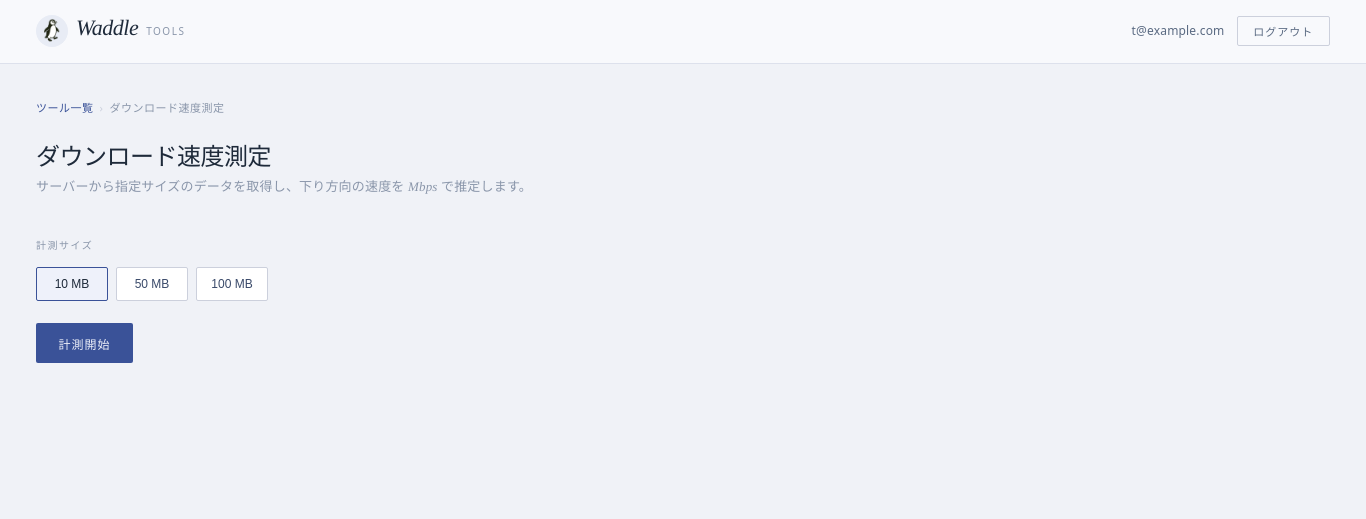
Test: DownloadSpeedPage › 30 秒でタイムアウトメッセージを表示する
The image size is (1366, 519).
Click the button "計測開始".
click(84, 343)  # box x1=36 y1=323 x2=133 y2=363
Wait 30000 ms
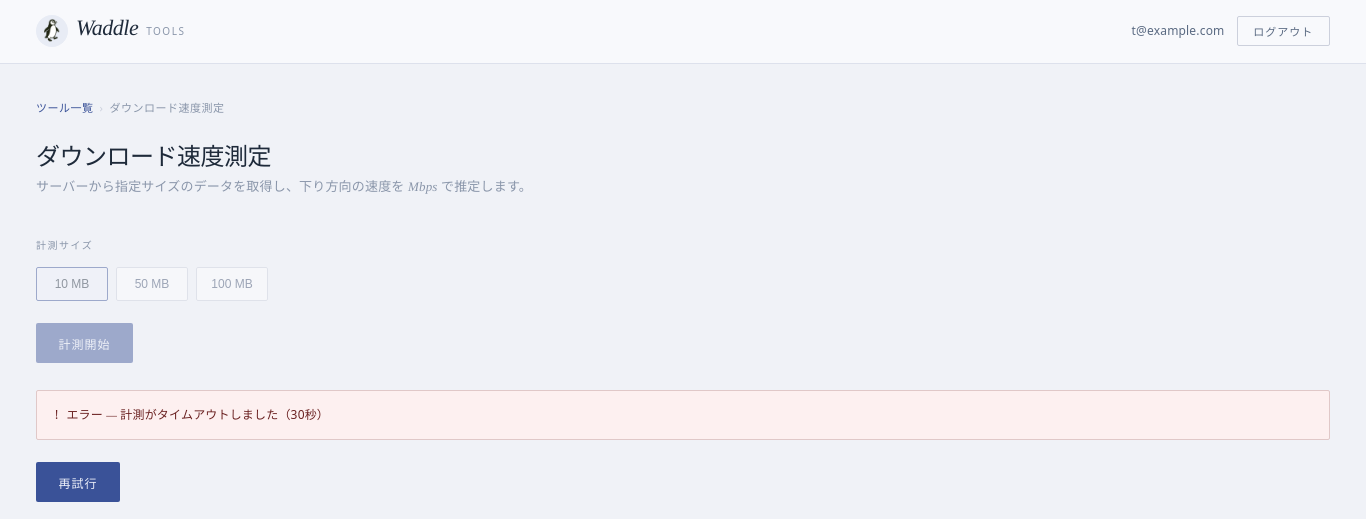
Result: the text "計測がタイムアウトしました（30秒）" is shown at x1=120 y1=406 x2=329 y2=423
